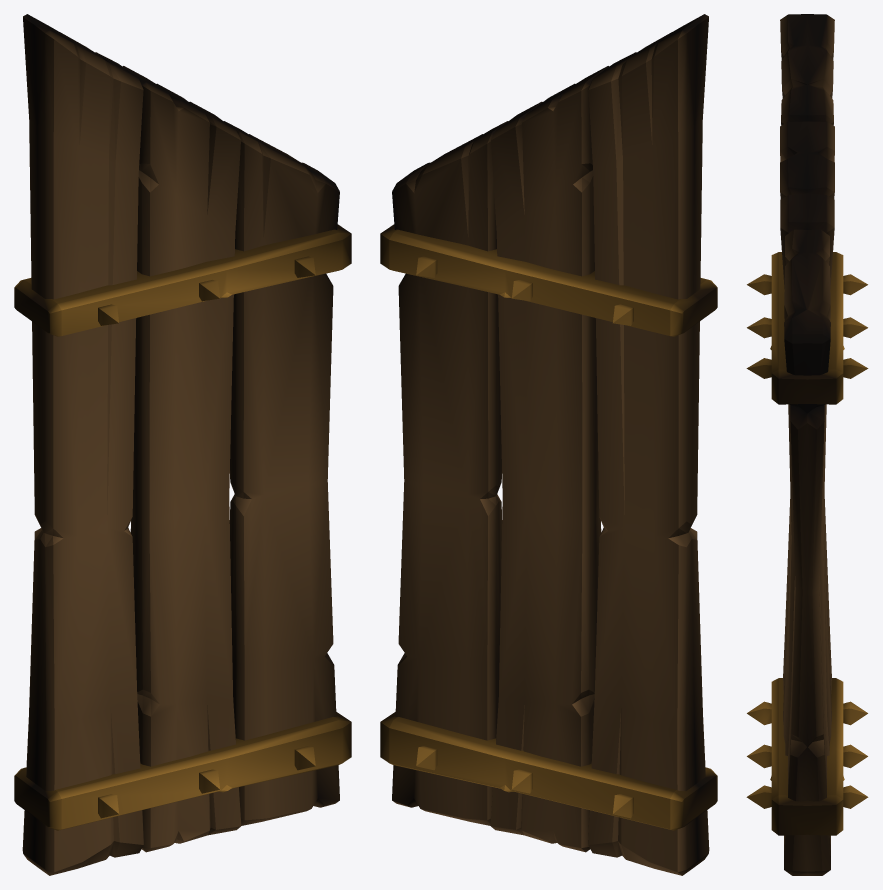
Rendered from obj_woodenDoor_right.FBX.
3 views of the same model, side by side, from view 1: azimuth 30°, elevation 25°; view 2: azimuth 150°, elevation 25°; view 3: azimuth 270°, elevation 25° (orthographic). The views are drawn at different scales.
Parts seen in each view (by area): view 1: obj_woodenDoor_right; view 2: obj_woodenDoor_right; view 3: obj_woodenDoor_right.
Boxes of the visible parts, box(x1,y1,x2,y2) form: obj_woodenDoor_right: box(14, 14, 351, 875); obj_woodenDoor_right: box(380, 14, 717, 875); obj_woodenDoor_right: box(746, 14, 868, 875).
Bounding box in the file's own units: 1.75 × 4.67 × 0.6989.
